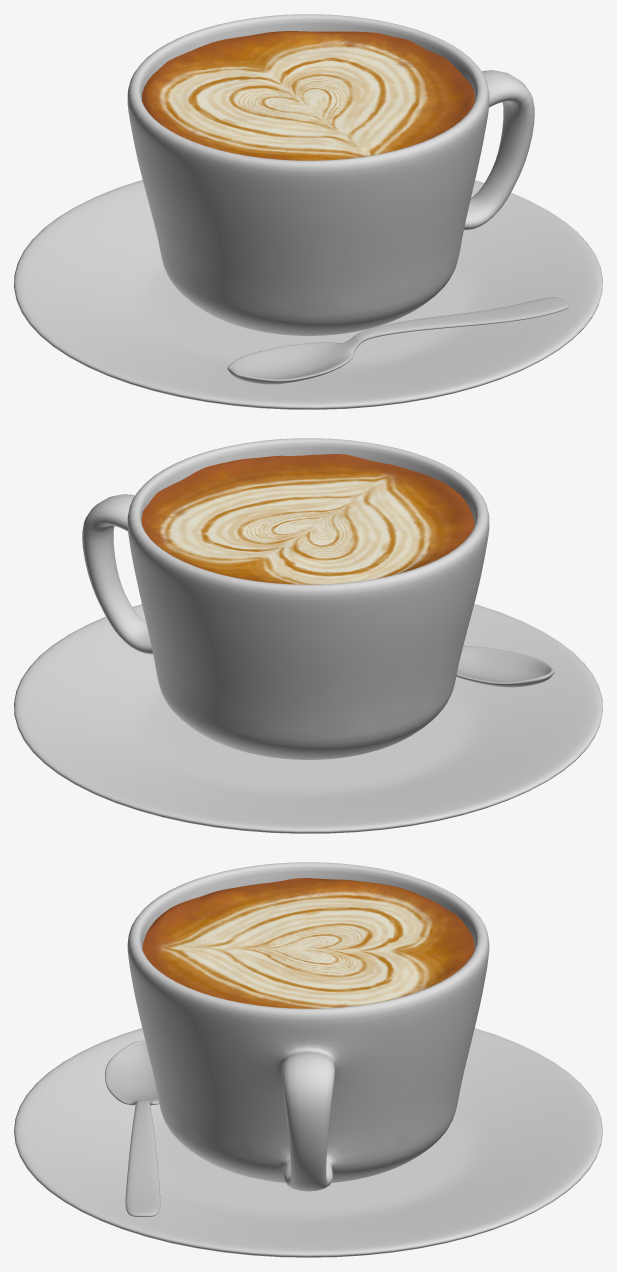
Rendered from latte.glb.
The picture shows the model from 3 angles, top to bottom: view 1: azimuth 30°, elevation 25°; view 2: azimuth 150°, elevation 25°; view 3: azimuth 270°, elevation 25°; orthographic projection.
Parts seen in each view (by area): view 1: Saucer_Cup_0, Latte_Latte_0, Spoon_Metal_0; view 2: Saucer_Cup_0, Latte_Latte_0, Spoon_Metal_0; view 3: Saucer_Cup_0, Latte_Latte_0, Spoon_Metal_0.
Part boxes in pixels (x1,y1,x2,y2): Saucer_Cup_0: [14, 14, 602, 409]; Latte_Latte_0: [142, 31, 474, 160]; Spoon_Metal_0: [227, 297, 568, 384]; Saucer_Cup_0: [14, 438, 602, 833]; Latte_Latte_0: [141, 454, 474, 584]; Spoon_Metal_0: [456, 645, 554, 687]; Saucer_Cup_0: [14, 862, 602, 1257]; Latte_Latte_0: [142, 878, 474, 1008]; Spoon_Metal_0: [105, 1040, 160, 1216].
Bounding box in the file's own units: 1.25 × 0.5273 × 1.25.
Materials: 3 (1 with a texture image).
